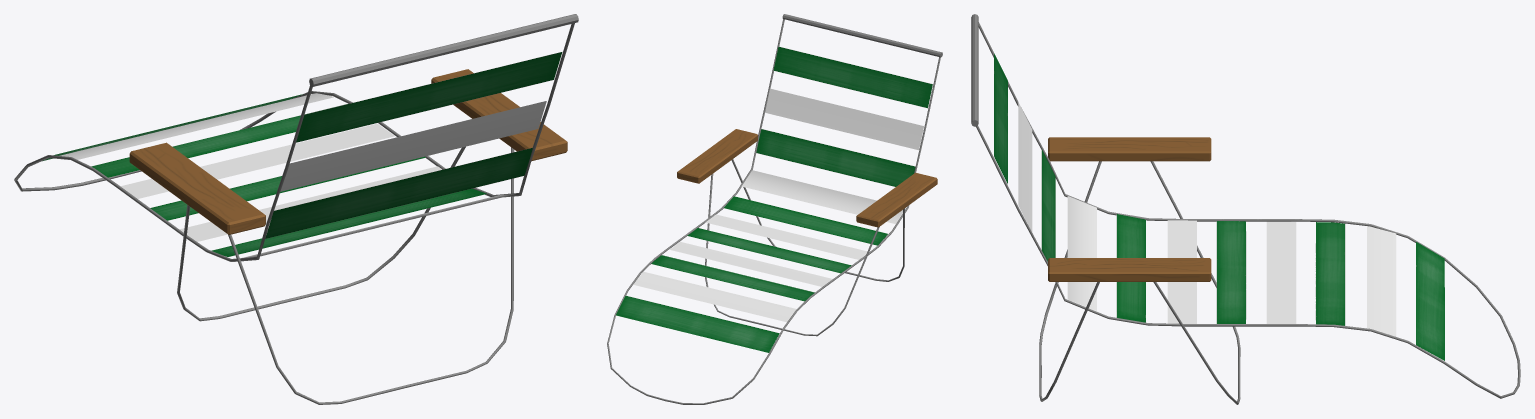
File: Chair.fbx
3 views of the same model, side by side, from view 1: azimuth 30°, elevation 25°; view 2: azimuth 150°, elevation 25°; view 3: azimuth 270°, elevation 25° (orthographic). The views are drawn at different scales.
Parts seen in each view (by area): view 1: Chair; view 2: Chair; view 3: Chair.
Part boxes in pixels (x1,y1,x2,y2): Chair: (14,14,578,404); Chair: (607,14,942,404); Chair: (971,14,1520,404).
Size of the model in its own units: 114 by 120 by 194.
